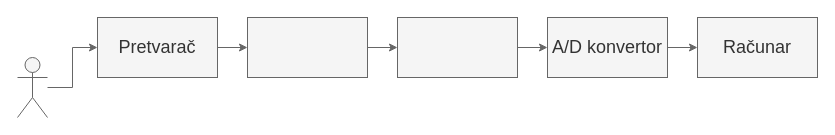
The diagram is 835 pixels wide and 135 high, and some of its shapes have lost their labels. Here are the shapes that lost their labels. From the top down, the box of each, then its label:
(246, 16, 368, 78): Pojačavač
(396, 16, 518, 78): Filtri
